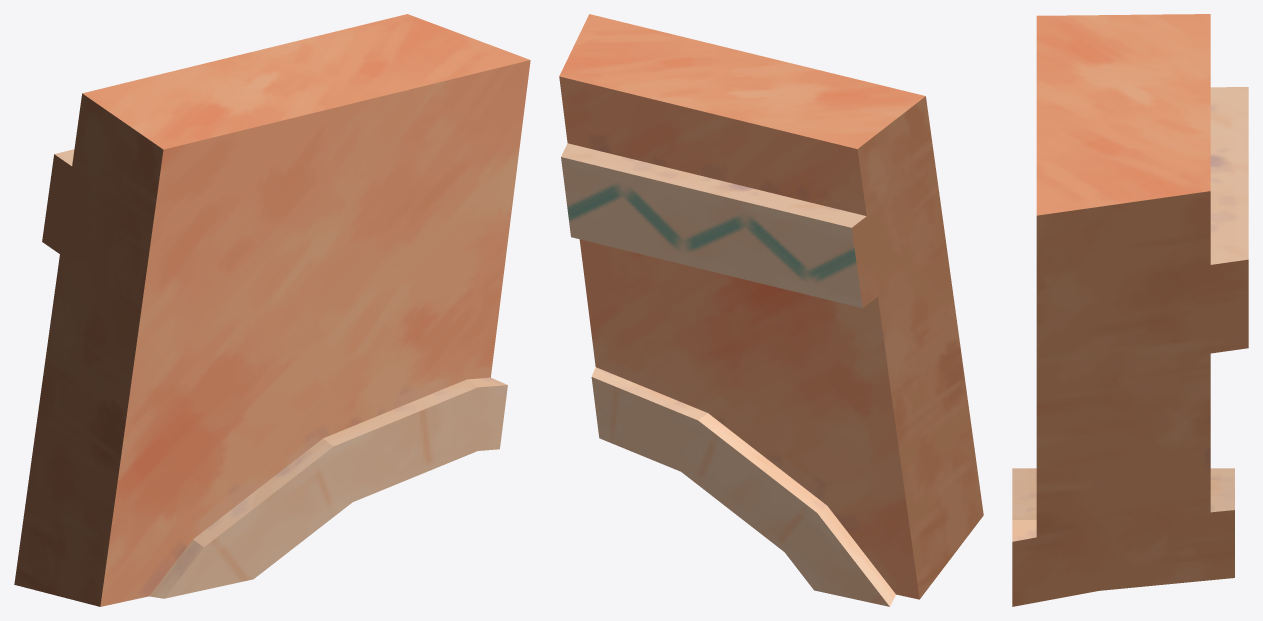
The model's file is wall2_arcade_s04.fbx.
The picture shows the model from 3 angles, left to right: view 1: azimuth 30°, elevation 25°; view 2: azimuth 150°, elevation 25°; view 3: azimuth 270°, elevation 25°; orthographic projection. The views are drawn at different scales.
Parts seen in each view (by area): view 1: wall2_arcade_s04; view 2: wall2_arcade_s04; view 3: wall2_arcade_s04.
Part boxes in pixels (x1,y1,x2,y2): wall2_arcade_s04: (14, 14, 530, 606); wall2_arcade_s04: (559, 14, 983, 606); wall2_arcade_s04: (1012, 14, 1248, 606).
Size of the model in its own units: 3.25 by 3.41 by 1.36.
